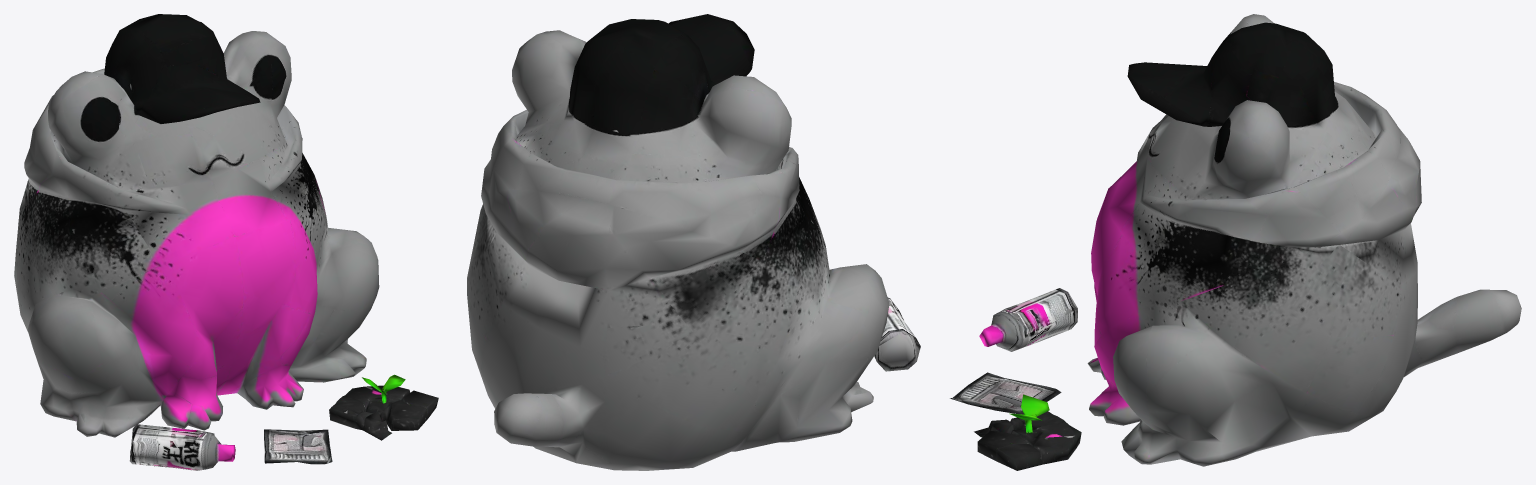
Rendered from urbaine.glb.
3 views of the same model, side by side, from view 1: azimuth 30°, elevation 25°; view 2: azimuth 150°, elevation 25°; view 3: azimuth 270°, elevation 25° (orthographic). The views are drawn at different scales.
Parts seen in each view (by area): view 1: mesh_node; view 2: mesh_node; view 3: mesh_node.
Part boxes in pixels (<box>): mesh_node: <box>14,14,438,470</box>; mesh_node: <box>467,14,920,470</box>; mesh_node: <box>950,14,1521,470</box>.
Size of the model in its own units: 1.35 by 1.33 by 1.89.
1 material, 1 textured.
